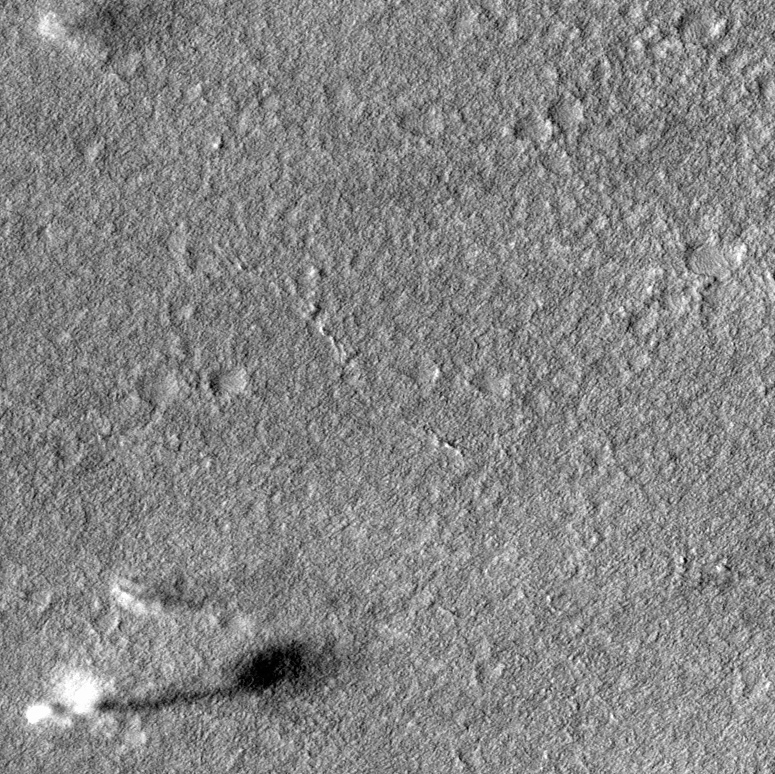dust_devil: (21, 635, 339, 727), (107, 557, 289, 619), (35, 1, 208, 62)
